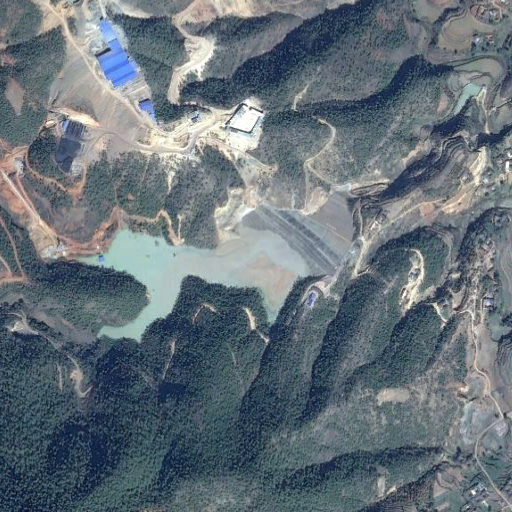tp: (74, 184, 354, 343)
